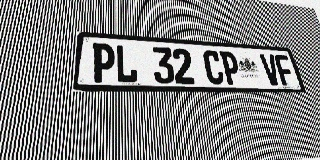2: (172, 48, 194, 84)
3: (152, 47, 175, 84)
C: (202, 50, 225, 85)
F: (274, 55, 296, 86)
L: (115, 44, 138, 83)
P: (91, 43, 115, 83), (219, 51, 242, 85)
V: (259, 54, 282, 85)
